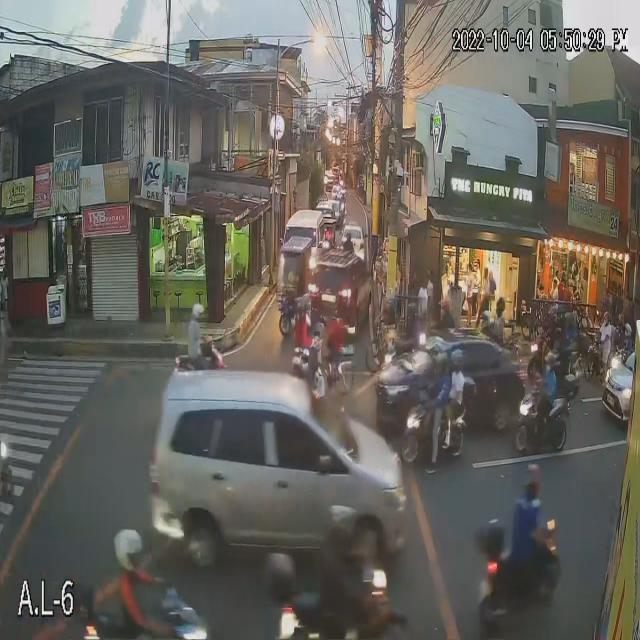helmet: (106, 525, 148, 579), (322, 504, 365, 546), (511, 465, 544, 501), (186, 296, 207, 323), (434, 294, 457, 318), (432, 349, 451, 378), (543, 305, 567, 323), (290, 295, 308, 318), (599, 309, 616, 330), (451, 347, 468, 367), (559, 313, 578, 330), (299, 289, 316, 307), (478, 308, 494, 326), (546, 353, 560, 373), (618, 324, 635, 339), (494, 297, 505, 312)
motorcycle: (270, 559, 406, 640), (468, 524, 570, 628), (66, 587, 205, 640), (399, 395, 469, 469), (509, 395, 569, 463), (171, 337, 227, 393), (526, 333, 576, 385), (284, 335, 323, 385), (583, 338, 612, 376), (613, 351, 637, 374)
rider: (99, 511, 164, 638), (310, 498, 373, 627), (505, 465, 550, 571), (427, 341, 450, 424), (186, 300, 208, 381), (534, 351, 560, 419), (558, 309, 586, 359), (448, 347, 467, 417), (490, 292, 510, 351), (438, 290, 462, 337), (471, 308, 496, 347), (598, 302, 619, 348), (302, 289, 320, 337), (291, 293, 306, 350), (545, 304, 562, 349), (623, 316, 639, 356)
